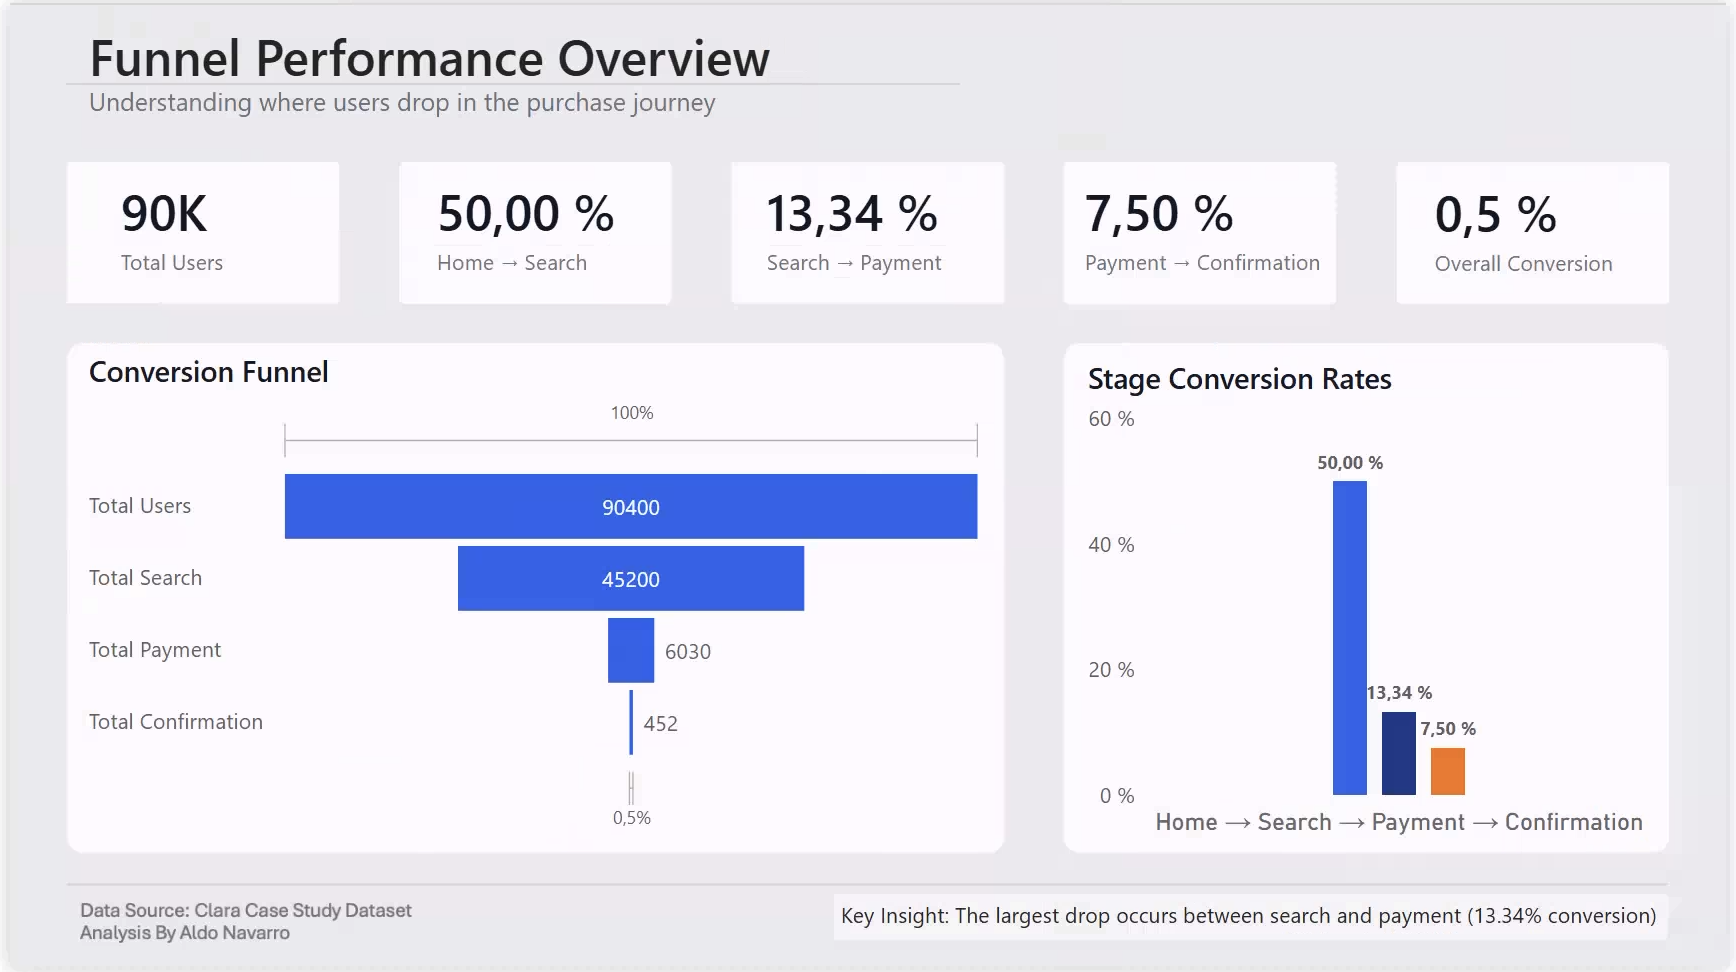

The dashboard page shown, as its layout file describes it:
{"tool":"powerbi","page":{"name":"Funnel Overview","canvas":[1280,720],"ordinal":0},"visuals":[{"type":"cardVisual","fields":{"Data":["dax_measures.Total Users"]},"box":[53.5,112.2,195.1,108.4],"z":0},{"type":"funnel","title":"Conversion Funnel","fields":{"Y":["dax_measures.Total Users","dax_measures.Total Search","dax_measures.Total Payment","dax_measures.Total Confirmation"]},"box":[53.5,260.1,678.2,364.6],"z":1000},{"type":"clusteredColumnChart","title":"Stage Conversion Rates","fields":{"Y":["dax_measures.Home To Search Rate","dax_measures.Search To Payment Rate","dax_measures.Payment To Confirmation Rate"]},"box":[795.5,260.1,433.5,376.1],"z":2000},{"type":"cardVisual","fields":{"Data":["dax_measures.Home To Search Rate"]},"box":[289.3,112.5,205.4,108.9],"z":3000},{"type":"cardVisual","fields":{"Data":["dax_measures.Search To Payment Rate"]},"box":[535.7,112.5,205.4,108.9],"z":4000},{"type":"cardVisual","fields":{"Data":["dax_measures.Payment To Confirmation Rate"]},"box":[773.2,112.5,239.3,108.9],"z":5000},{"type":"cardVisual","fields":{"Data":["dax_measures.Overall Conversion Rate"]},"box":[1034.1,111.8,203.5,110.6],"z":6000},{"type":"textbox","box":[53.8,9,526.9,67.9],"z":7000},{"type":"textbox","box":[53.4,55.9,540.3,42.5],"z":8000},{"type":"textbox","box":[615.3,663.5,622.4,35.3],"z":9000}]}

Visuals, with their boxes in screenshot pixels (x1, y1, x2, y2), scaled from the page's 1280x720 canvas onto the 1736x972 screenshot:
cardVisual - dax_measures.Total Users: (73, 151, 337, 298)
"Conversion Funnel" funnel: (73, 351, 992, 843)
"Stage Conversion Rates" clusteredColumnChart: (1079, 351, 1667, 859)
cardVisual - dax_measures.Home To Search Rate: (392, 152, 671, 299)
cardVisual - dax_measures.Search To Payment Rate: (727, 152, 1005, 299)
cardVisual - dax_measures.Payment To Confirmation Rate: (1049, 152, 1373, 299)
cardVisual - dax_measures.Overall Conversion Rate: (1402, 151, 1678, 300)
textbox: (73, 12, 788, 104)
textbox: (72, 75, 805, 133)
textbox: (835, 896, 1679, 943)
